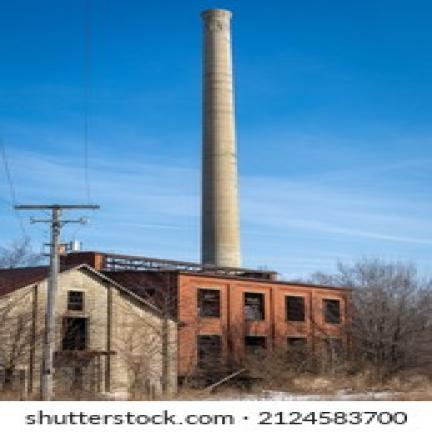besi_tidak_karat: (200, 10, 242, 266)
